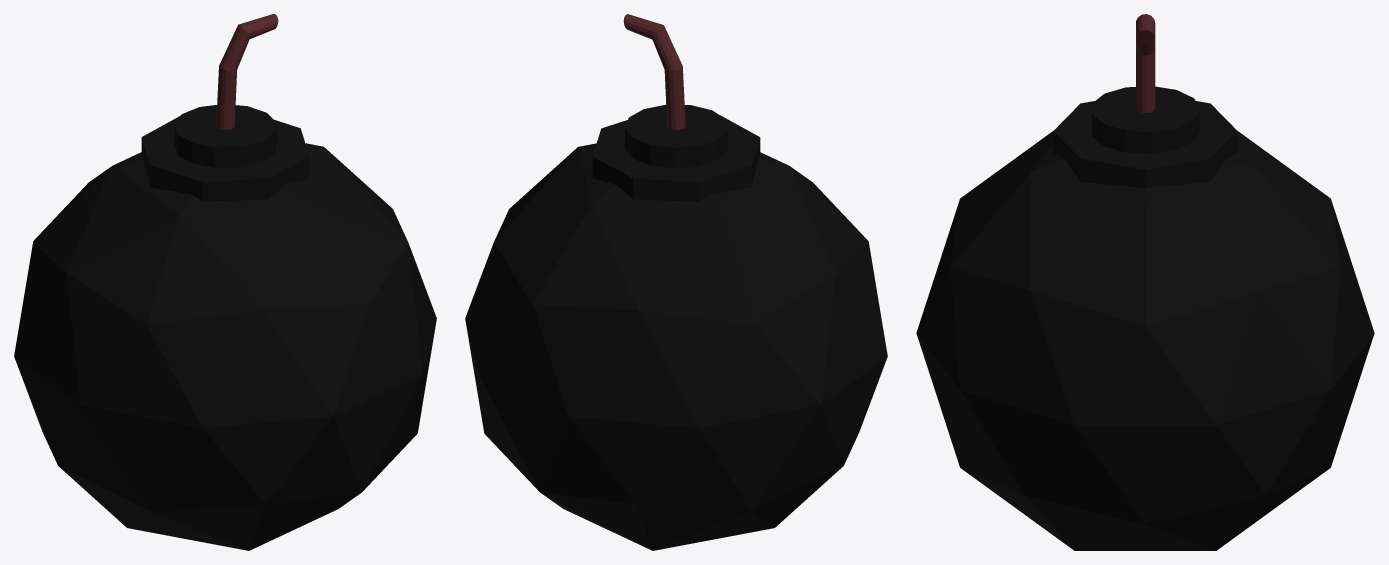
The model's file is Dynamite 1.fbx.
3 views of the same model, side by side, from view 1: azimuth 30°, elevation 25°; view 2: azimuth 150°, elevation 25°; view 3: azimuth 270°, elevation 25° (orthographic). The views are drawn at different scales.
Visible parts, largest first — view 1: Icosphere, Cylinder, Cylinder.002, Cylinder.001; view 2: Icosphere, Cylinder, Cylinder.002, Cylinder.001; view 3: Icosphere, Cylinder, Cylinder.002, Cylinder.001.
Boxes of the visible parts, x1=… form: Icosphere: x1=14, y1=143, x2=436, y2=550; Cylinder: x1=141, y1=116, x2=309, y2=201; Cylinder.002: x1=174, y1=105, x2=276, y2=167; Cylinder.001: x1=216, y1=14, x2=278, y2=129; Icosphere: x1=465, y1=143, x2=887, y2=550; Cylinder: x1=592, y1=115, x2=760, y2=201; Cylinder.002: x1=625, y1=104, x2=727, y2=168; Cylinder.001: x1=623, y1=14, x2=685, y2=129; Icosphere: x1=916, y1=130, x2=1374, y2=550; Cylinder: x1=1053, y1=101, x2=1237, y2=187; Cylinder.002: x1=1092, y1=86, x2=1200, y2=153; Cylinder.001: x1=1136, y1=14, x2=1155, y2=113.
Size of the model in its own units: 91.09 by 124 by 95.78.
